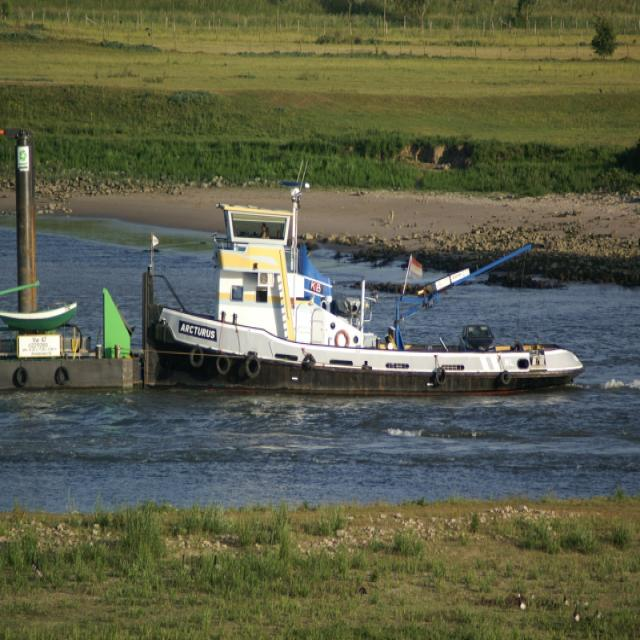tugboat: (141, 182, 587, 409)
